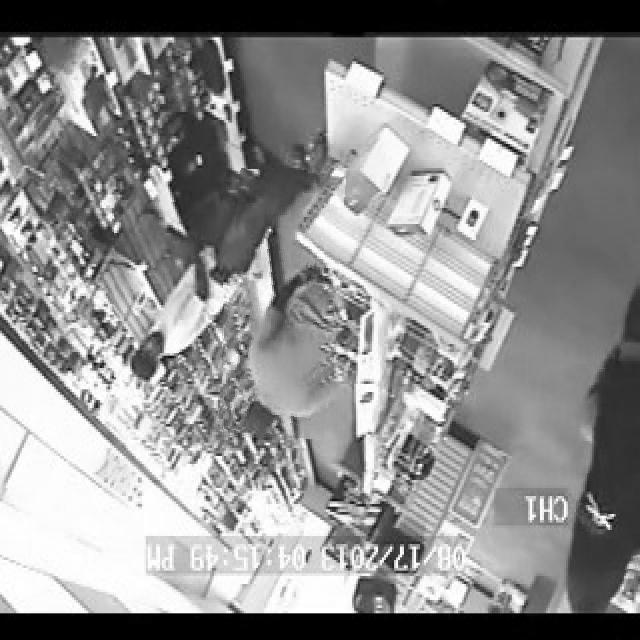normal: (223, 170, 340, 438), (577, 261, 640, 570), (114, 201, 213, 382)
